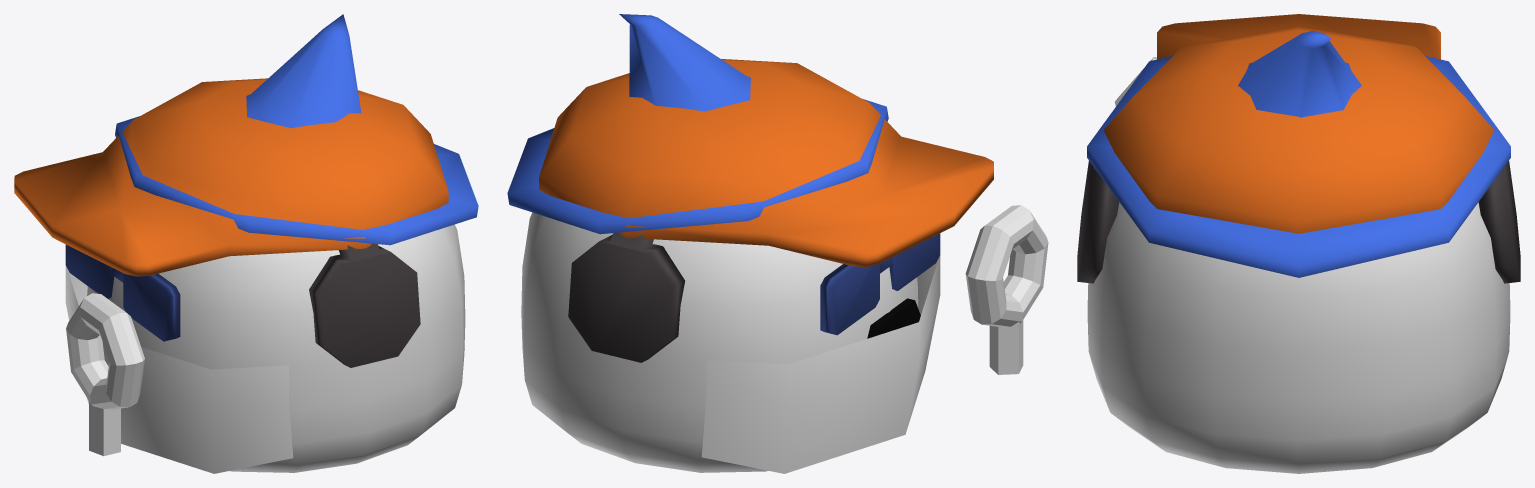
File: slime.fbx
3 renders of one model, left to right at view 1: azimuth 30°, elevation 25°; view 2: azimuth 150°, elevation 25°; view 3: azimuth 270°, elevation 25°, orthographic. The views are drawn at different scales.
Parts seen in each view (by area): view 1: Circle.002, Cube, Circle.001, Circle, Cube.003, Cylinder, Cube.001; view 2: Circle.002, Cube, Circle.001, Circle, Cube.003, Cylinder, Cube.001, Cube.002; view 3: Cube, Circle.002, Circle, Cube.003.
Boxes of the visible parts, x1,y1,x2,y2 form: Circle.002: (14,78,448,276); Cube: (87,224,465,472); Circle.001: (65,265,293,473); Circle: (115,14,478,245); Cube.003: (309,243,420,367); Cylinder: (66,293,144,456); Cube.001: (65,244,180,341); Circle.002: (539,59,993,266); Cube: (521,212,918,472); Circle.001: (701,255,940,473); Circle: (507,14,888,234); Cube.003: (568,232,684,362); Cylinder: (965,205,1048,374); Cube.001: (820,233,940,335); Cube.002: (867,298,920,338); Cube: (1087,202,1510,473); Circle.002: (1103,14,1494,233); Circle: (1087,31,1510,277); Cube.003: (1077,161,1520,283).
Bounding box in the file's own units: 236 × 203 × 192.
